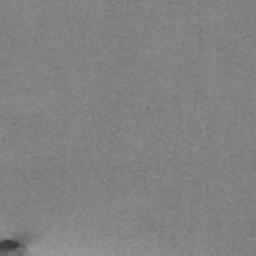Iron sheet ash: (0, 239, 24, 256)
